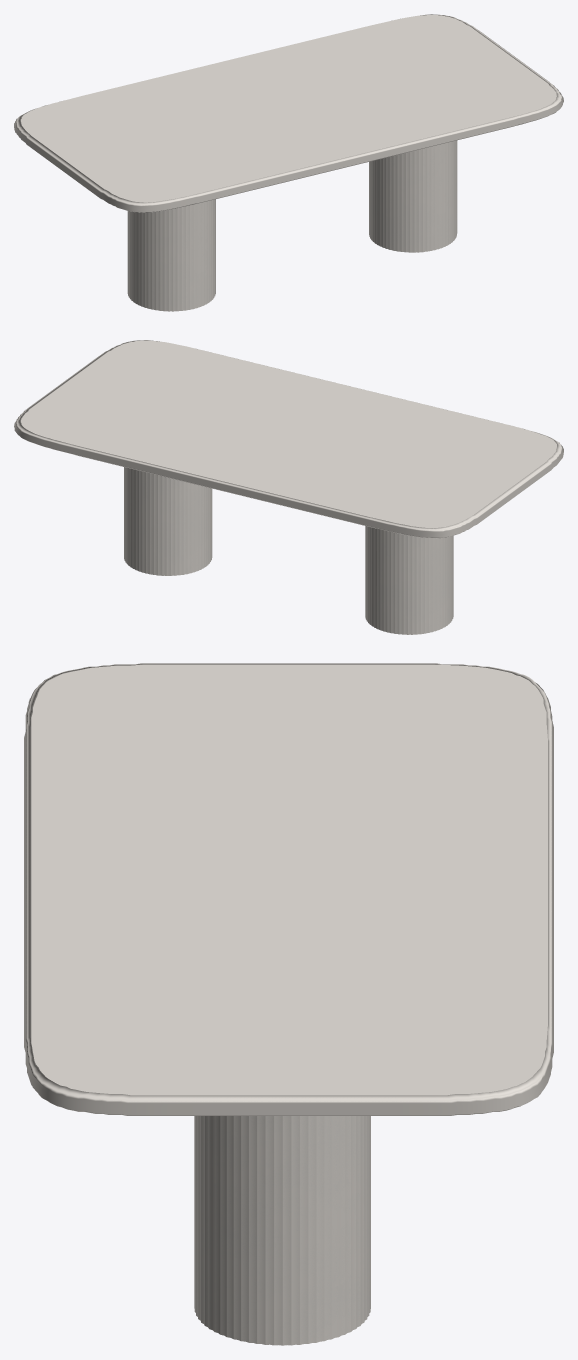
Rendered from pearlwhite_softrecta_round_ripplesecond.glb.
3 views of the same model, one above another, from view 1: azimuth 30°, elevation 25°; view 2: azimuth 150°, elevation 25°; view 3: azimuth 270°, elevation 25° (orthographic). The views are drawn at different scales.
Parts seen in each view (by area): view 1: round_softrecta, ripplesecond; view 2: round_softrecta, ripplesecond; view 3: round_softrecta, ripplesecond.
Part boxes in pixels (x1,y1,x2,y2): round_softrecta: (14, 14, 563, 212); ripplesecond: (127, 140, 457, 311); round_softrecta: (14, 340, 563, 538); ripplesecond: (124, 467, 453, 634); round_softrecta: (24, 663, 553, 1115); ripplesecond: (194, 1116, 370, 1345).
Size of the model in its own units: 7.68 by 2.5 by 3.9.
1 material, 1 textured.
